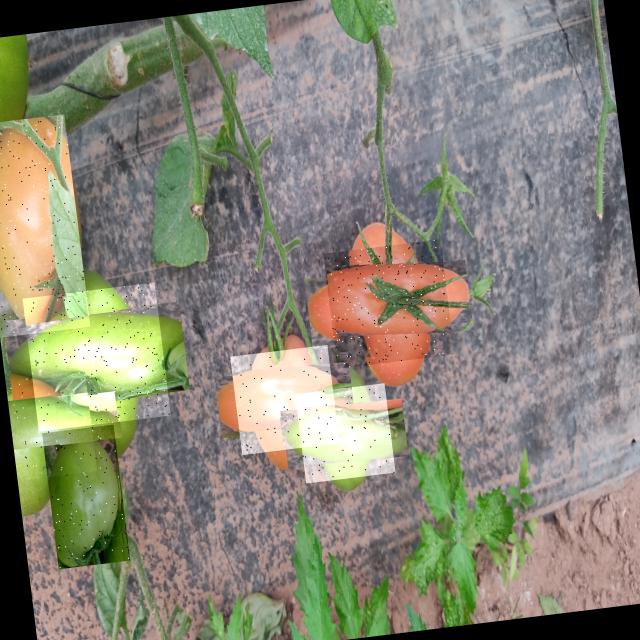Ripe Tomato: (323, 238, 454, 368), (230, 344, 339, 454)
Unripe Tomato: (22, 282, 170, 431), (0, 113, 90, 337), (42, 424, 130, 569), (4, 361, 97, 480), (294, 384, 394, 484)
